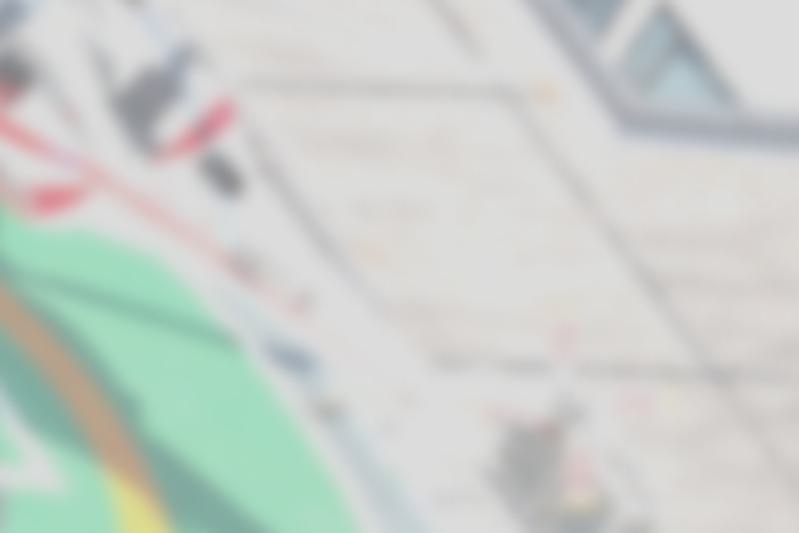Apron: (2, 258, 193, 533)
